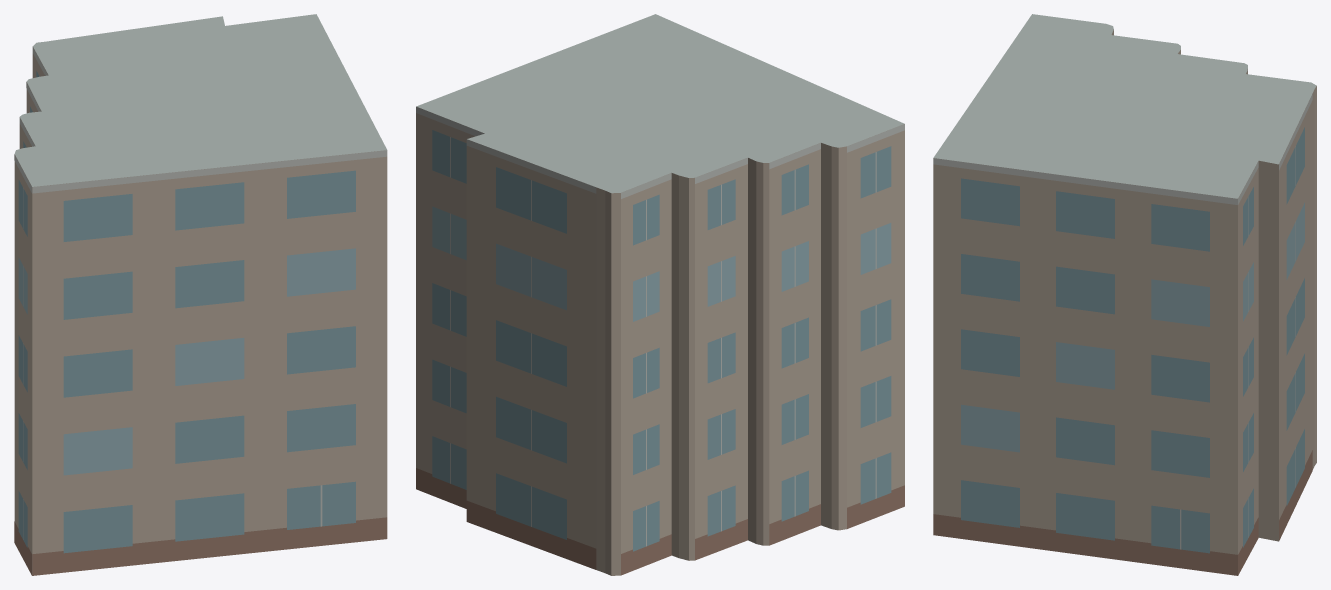
Rendered from survey-upis-32994245.glb.
The picture shows the model from 3 angles, left to right: view 1: azimuth 30°, elevation 25°; view 2: azimuth 150°, elevation 25°; view 3: azimuth 270°, elevation 25°; orthographic projection. The views are drawn at different scales.
Parts seen in each view (by area): view 1: survey-upis-32994245.tmp; view 2: survey-upis-32994245.tmp; view 3: survey-upis-32994245.tmp.
Boxes of the visible parts, box(x1,y1,x2,y2) form: survey-upis-32994245.tmp: box(14, 14, 387, 575); survey-upis-32994245.tmp: box(416, 14, 904, 575); survey-upis-32994245.tmp: box(933, 14, 1316, 575).
Size of the model in its own units: 15.14 by 14.4 by 13.28.
